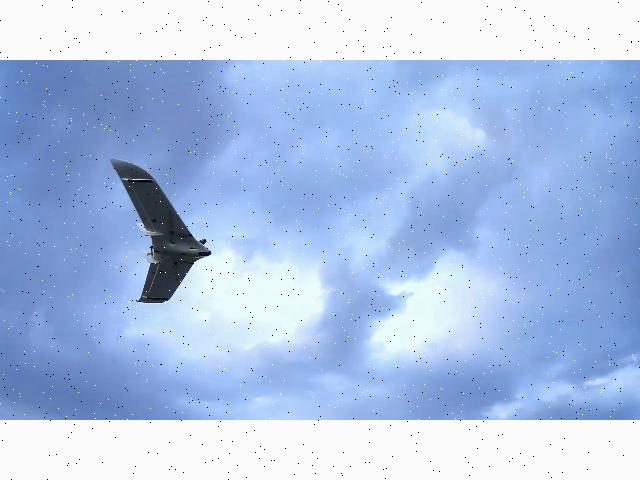Anti-Drone: (110, 159, 212, 303)
